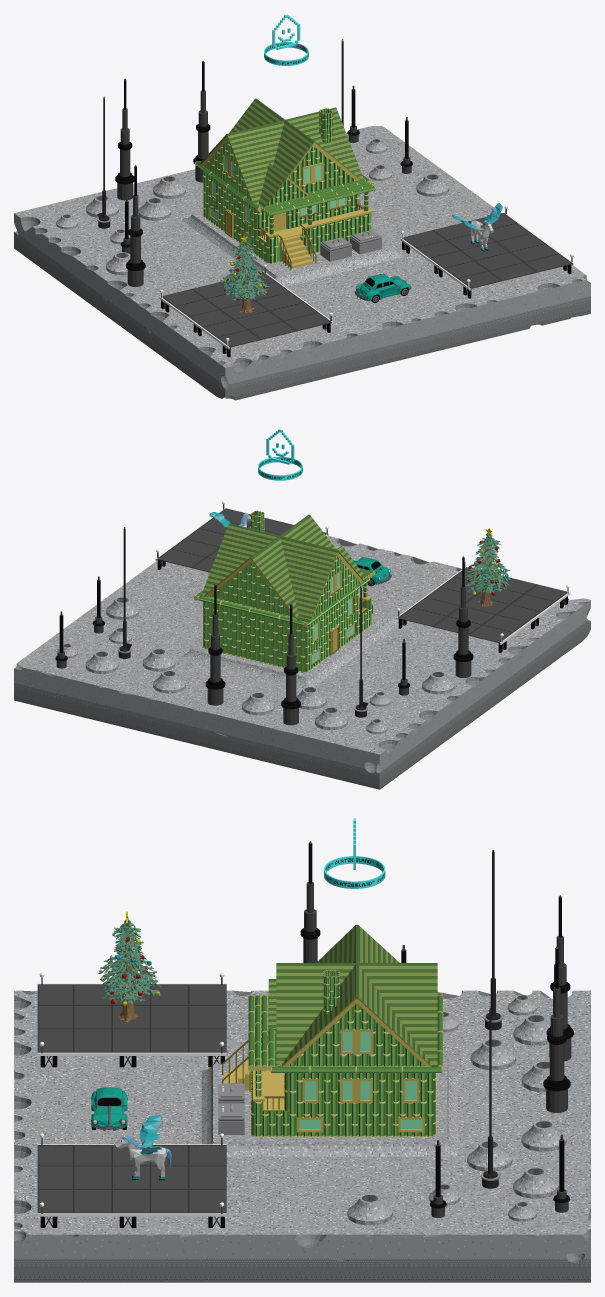
3 renders of one model, top to bottom at view 1: azimuth 30°, elevation 25°; view 2: azimuth 150°, elevation 25°; view 3: azimuth 270°, elevation 25°, orthographic. The views are drawn at different scales.
Parts seen in each view (by area): view 1: Cube.027, Cube.1327, Cube.026, Cube.025, Cube.028, OBJRANDOM_CHRISTMAS_TREE, Cylinder.021, Cylinder.020, VEHICLES_VOLKSWAGEN, TYPE_PREMIUM, Cylinder.017, ANIMAL_PEGASO (+5 smaller); view 2: Cube.027, Cube.1327, Cube.025, Cube.028, Cube.026, OBJRANDOM_CHRISTMAS_TREE, Cylinder.017, Cylinder.021, Cylinder.020, TYPE_PREMIUM, Cylinder.030, Cylinder.029 (+8 smaller); view 3: Cube.027, Cube.1327, Cube.026, Cube.025, Cube.028, OBJRANDOM_CHRISTMAS_TREE, Cylinder.017, ANIMAL_PEGASO, VEHICLES_VOLKSWAGEN, Cylinder.020, Cylinder.021, TYPE_PREMIUM (+12 smaller).
Part boxes in pixels (<box>): Cube.027: <box>14,126,590,400</box>; Cube.1327: <box>195,98,375,269</box>; Cube.026: <box>400,205,574,298</box>; Cube.025: <box>159,264,333,357</box>; Cube.028: <box>182,211,403,286</box>; OBJRANDOM_CHRISTMAS_TREE: <box>220,235,269,313</box>; Cylinder.021: <box>126,165,145,286</box>; Cylinder.020: <box>115,78,134,200</box>; VEHICLES_VOLKSWAGEN: <box>354,273,410,302</box>; TYPE_PREMIUM: <box>264,14,308,65</box>; Cylinder.017: <box>193,60,210,182</box>; ANIMAL_PEGASO: <box>452,203,502,251</box>; Cube.027: <box>14,536,590,789</box>; Cube.1327: <box>193,510,374,672</box>; Cube.025: <box>396,560,570,653</box>; Cube.028: <box>181,610,398,688</box>; Cube.026: <box>155,501,329,572</box>; OBJRANDOM_CHRISTMAS_TREE: <box>464,528,510,606</box>; Cylinder.017: <box>205,583,225,705</box>; Cylinder.021: <box>453,556,473,677</box>; Cylinder.020: <box>281,603,300,725</box>; TYPE_PREMIUM: <box>258,429,302,480</box>; Cylinder.030: <box>142,648,175,671</box>; Cylinder.029: <box>153,670,185,693</box>; Cube.027: <box>14,990,590,1282</box>; Cube.1327: <box>222,924,443,1137</box>; Cube.026: <box>37,1133,226,1227</box>; Cube.025: <box>37,973,226,1067</box>; Cube.028: <box>201,1063,457,1156</box>; OBJRANDOM_CHRISTMAS_TREE: <box>98,911,160,1022</box>; Cylinder.017: <box>543,946,570,1112</box>; ANIMAL_PEGASO: <box>114,1115,171,1180</box>; VEHICLES_VOLKSWAGEN: <box>91,1087,127,1130</box>; Cylinder.020: <box>546,895,573,1061</box>; Cylinder.021: <box>300,841,320,962</box>; TYPE_PREMIUM: <box>324,818,385,888</box>.
Size of the model in its own units: 4000 by 2855 by 4000.
Materials: 37 (6 with a texture image).
